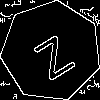Z: (26, 26, 77, 81)
